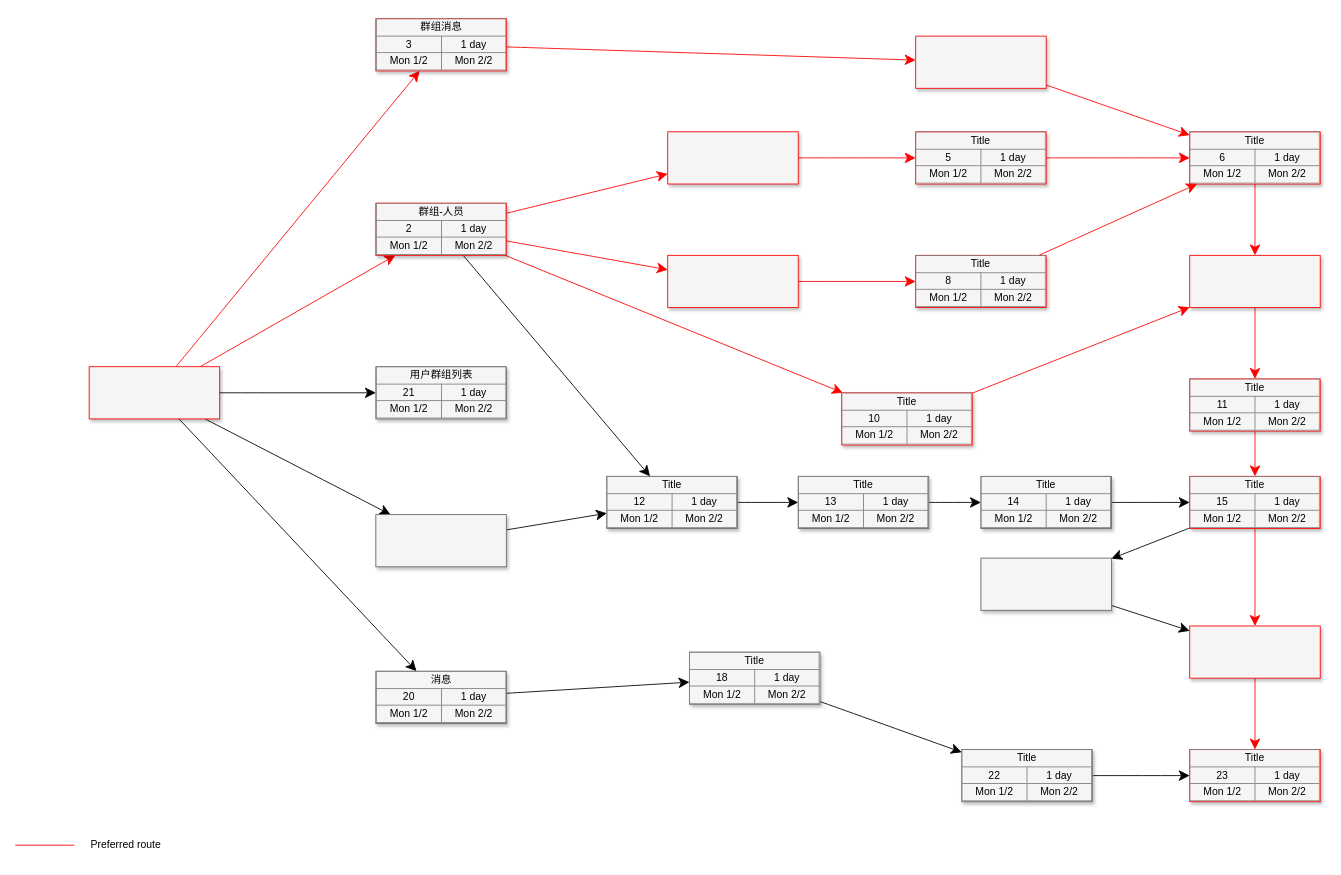
This 1341x875 diagram has some shape labels left out. The centre of each missing label's shape, as x and y in pixels:
"im数据迁移 1 day Mon 1/2 Mon 2/2" goes at point (155, 393).
"Title 1 1 day Mon 1/2 Mon 2/2" goes at point (733, 158).
"Title 17 1 day Mon 1/2 Mon 2/2" goes at point (1047, 585).
"Title 19 1 day Mon 1/2 Mon 2/2" goes at point (1255, 653).
"Title 4 1 day Mon 1/2 Mon 2/2" goes at point (981, 63).
"Title 7 1 day Mon 1/2 Mon 2/2" goes at point (733, 282).
"Title 9 1 day Mon 1/2 Mon 2/2" goes at point (1255, 282).
"群组 16 1 day Mon 1/2 Mon 2/2" goes at point (441, 541).
